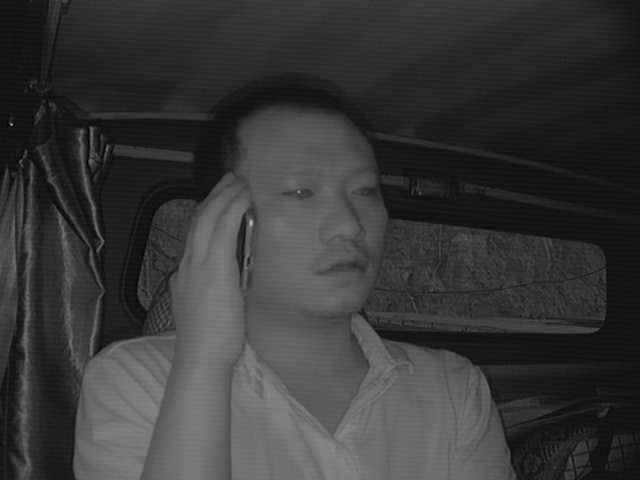hand: (165, 177, 262, 356)
